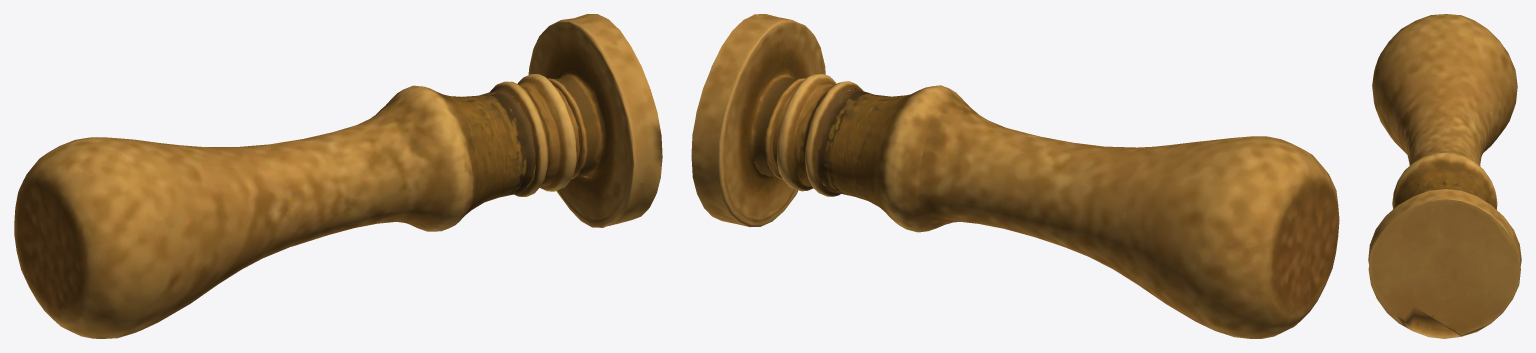
Rendered from wax-seal.glb.
The picture shows the model from 3 angles, left to right: view 1: azimuth 30°, elevation 25°; view 2: azimuth 150°, elevation 25°; view 3: azimuth 270°, elevation 25°; orthographic projection. The views are drawn at different scales.
Visible parts, largest first — view 1: geometry_0; view 2: geometry_0; view 3: geometry_0.
Boxes of the visible parts, bbox=[...] form: geometry_0: bbox=[14, 14, 662, 338]; geometry_0: bbox=[691, 14, 1339, 338]; geometry_0: bbox=[1368, 14, 1521, 338].
Bounding box in the file's own units: 1 × 0.3326 × 0.3291.
1 material, 1 textured.
